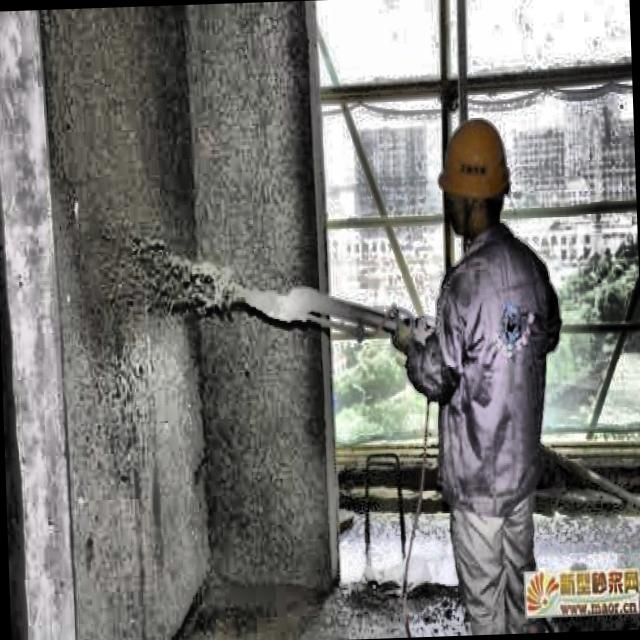helmet: (434, 114, 514, 238)
